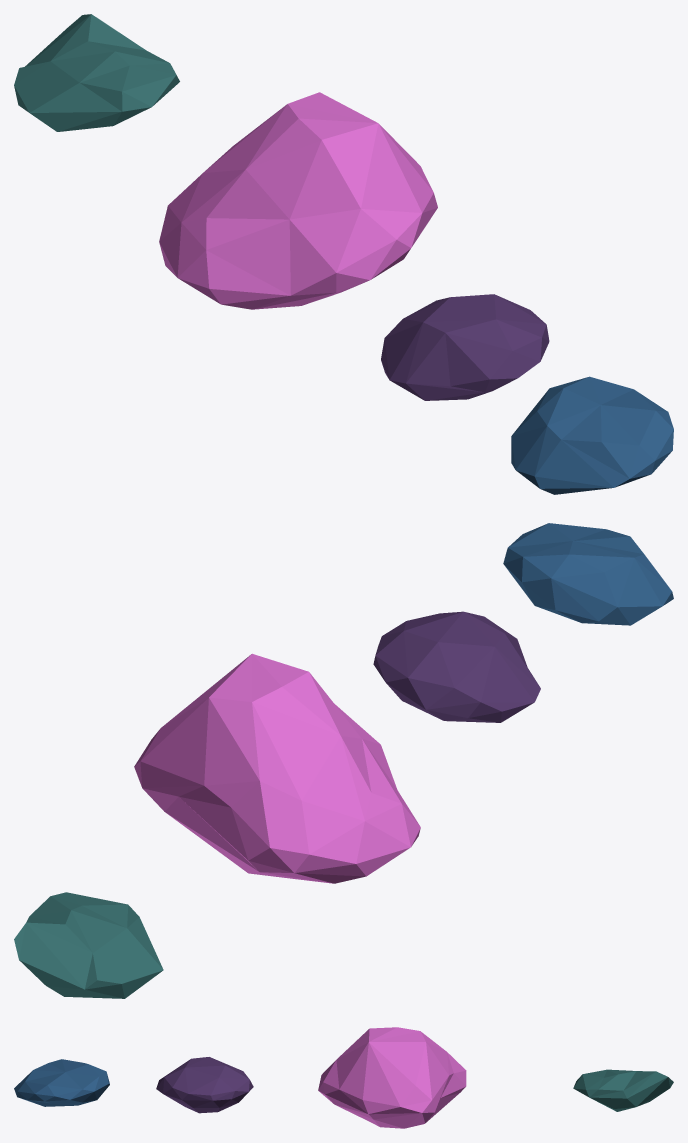
File: RockCo.fbx
3 views of the same model, one above another, from view 1: azimuth 30°, elevation 25°; view 2: azimuth 150°, elevation 25°; view 3: azimuth 270°, elevation 25° (orthographic). The views are drawn at different scales.
Visible parts, largest first — view 1: Icosphere.001, Icosphere.002, Icosphere, Icosphere.003; view 2: Icosphere.001, Icosphere, Icosphere.002, Icosphere.003; view 3: Icosphere.001, Icosphere, Icosphere.002, Icosphere.003.
Part boxes in pixels (x1,y1,x2,y2): Icosphere.001: [159, 92, 437, 309]; Icosphere.002: [511, 376, 673, 494]; Icosphere: [381, 294, 549, 400]; Icosphere.003: [14, 14, 179, 131]; Icosphere.001: [134, 653, 420, 883]; Icosphere: [373, 611, 540, 722]; Icosphere.002: [503, 523, 673, 625]; Icosphere.003: [14, 892, 163, 998]; Icosphere.001: [318, 1027, 466, 1128]; Icosphere: [156, 1057, 253, 1113]; Icosphere.002: [14, 1059, 109, 1106]; Icosphere.003: [573, 1069, 673, 1111].
Size of the model in its own units: 551 by 368 by 2241.
